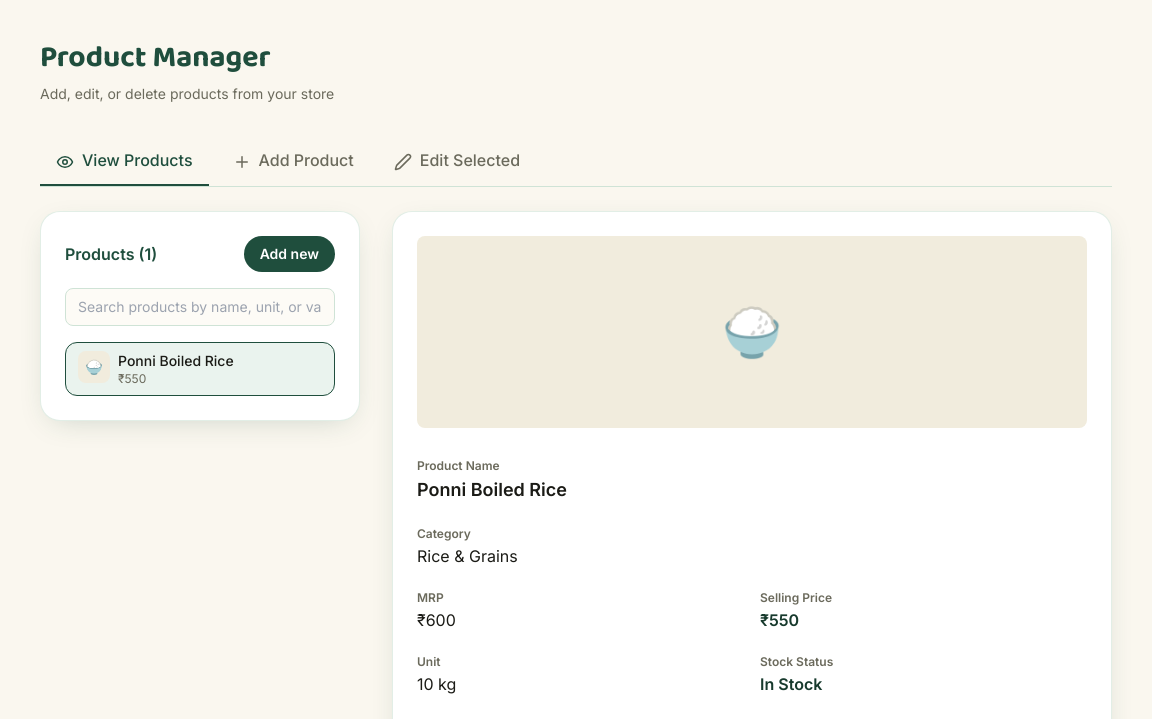
Test: ProductManager variant inputs › shows a success message after updating a product
The image size is (1152, 719).
What coordinates should you click on to do the following:
click the button "🍚 Ponni Boiled Rice ₹550"
I would click on:
 (200, 369)
Its box is top-left (65, 342), bottom-right (335, 396).
(page scrolled)
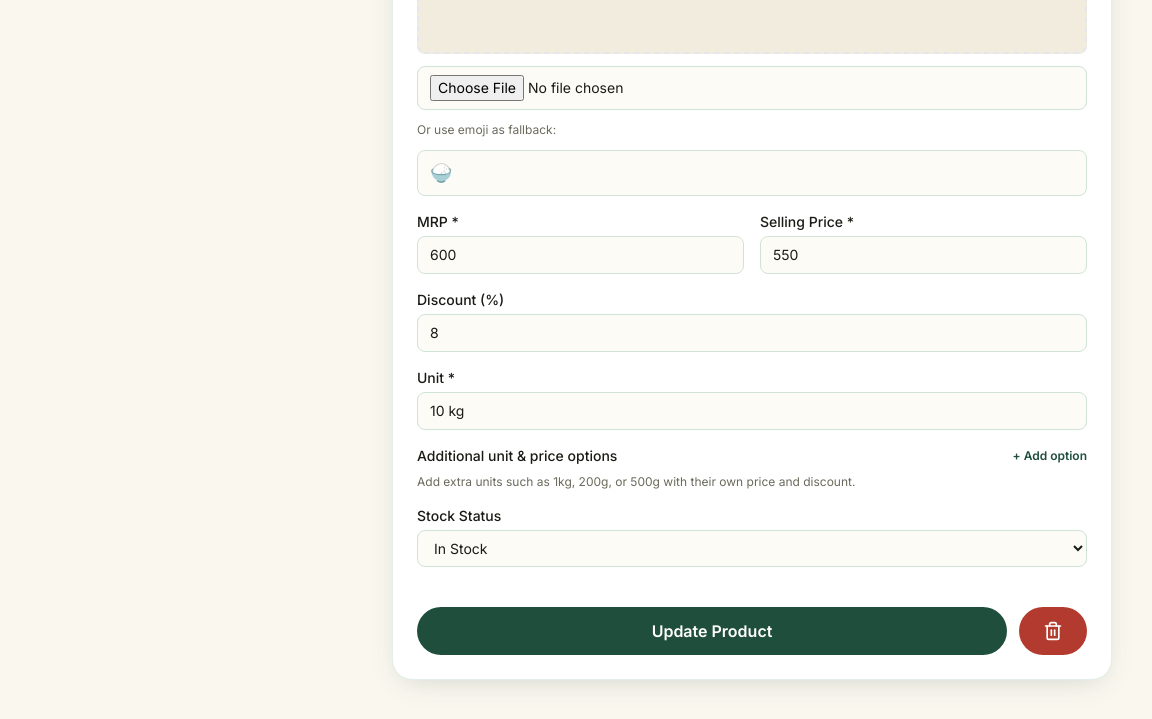
What coordinates should you click on to do the following:
click the button "Update Product"
I would click on:
 (712, 631)
Its box is top-left (417, 607), bottom-right (1007, 655).
(page scrolled)
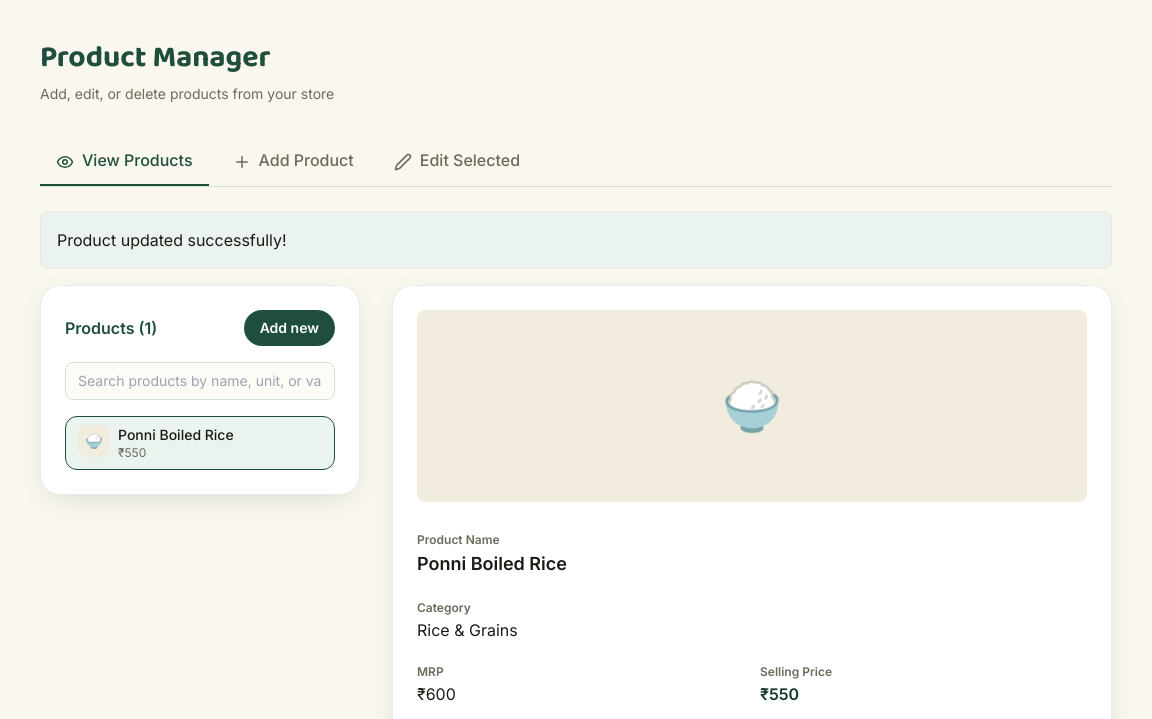
Now the text "Product updated successfully!" is shown, box top-left (40, 211), bottom-right (1112, 269)
